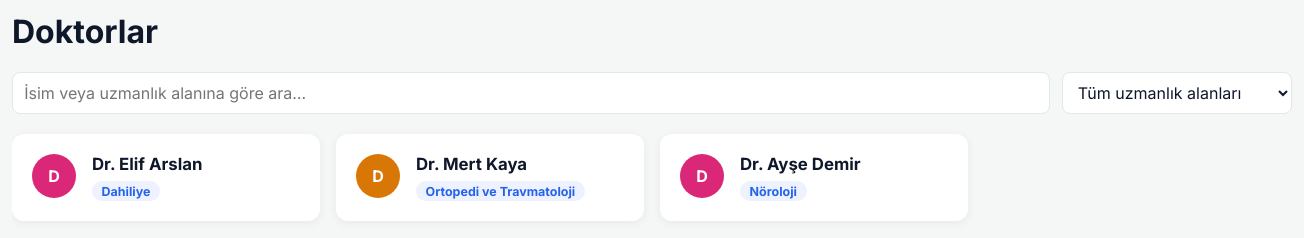
Test case: DoctorsListPage › filters by name as the user types
The image size is (1304, 238).
Expected: the heading "Dr. Elif Arslan" is shown, [92,154,202,174]
Type "mert" into the search field with placeholder "İsim veya uzmanlık alanına göre ara…". click: (531, 93)
box: [12,72,1050,114]
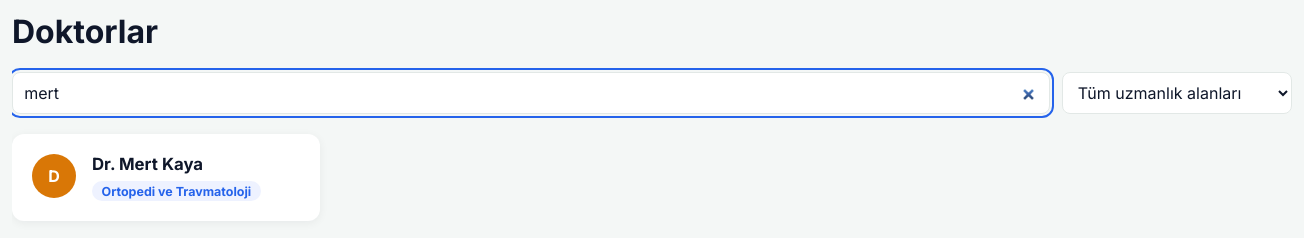
Expected: the heading "Dr. Mert Kaya" is shown, [92,154,203,174]
Result: the link "Dr. Elif Arslan" is gone
Result: the link "Dr. Ayşe Demir" is gone
